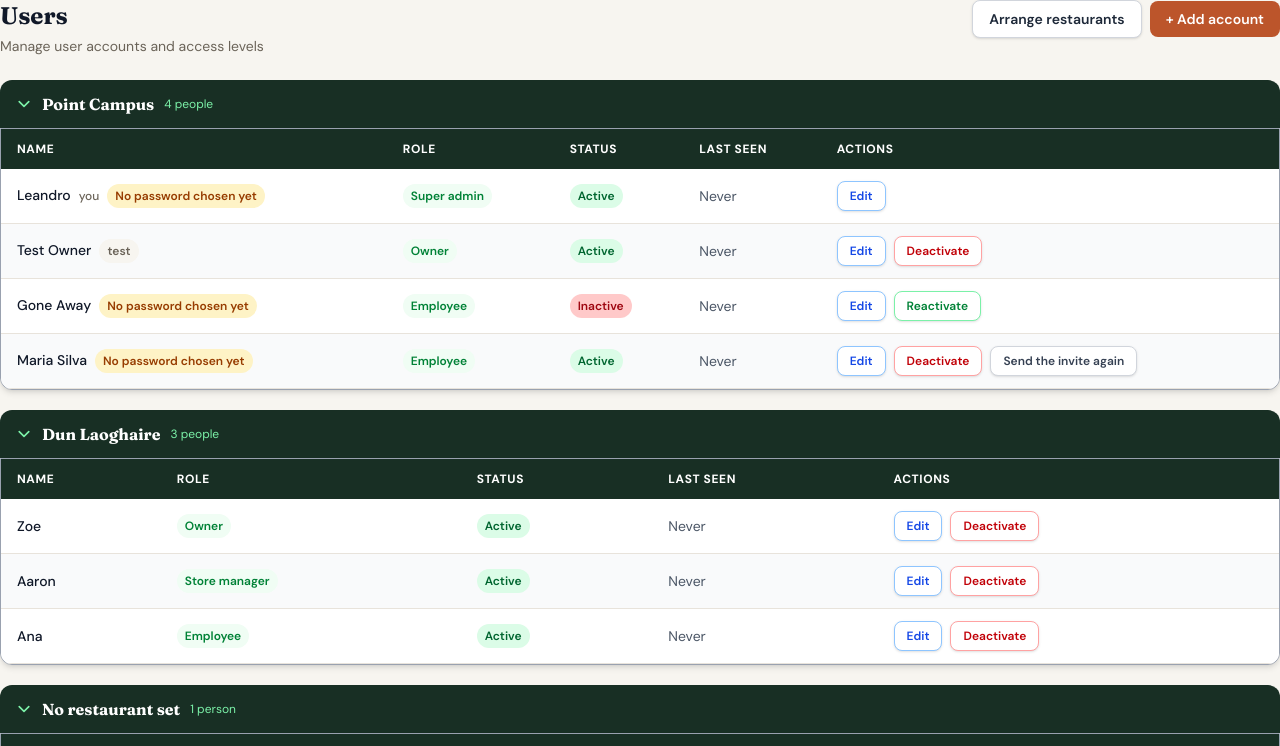
Test: sending the invite again › says why when it did not go
The image size is (1280, 746).
Click the button "Send the invite again".
click(1064, 361)  # box [990,346,1137,376]
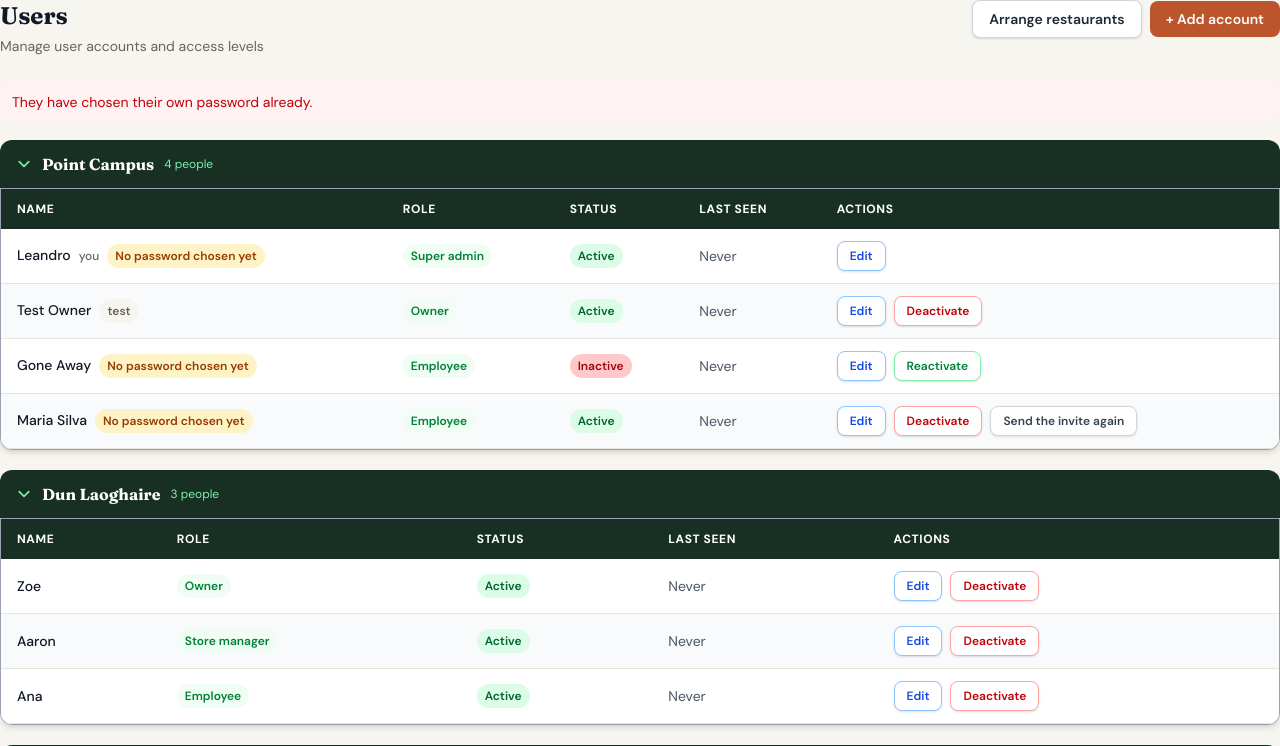
Now the text "They have chosen their own password already." is shown, box [0,80,1279,124]
